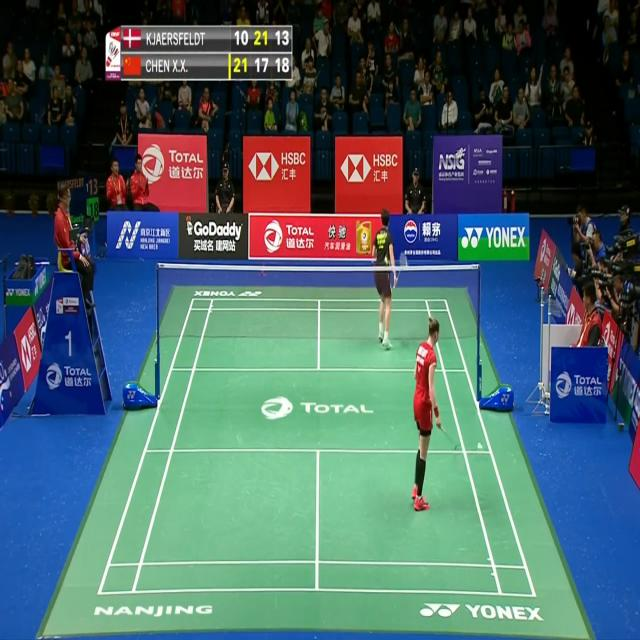Player1: (408, 312, 448, 517)
Player2: (368, 210, 410, 368)
